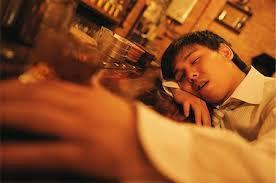Drunk: (175, 45, 226, 99)
